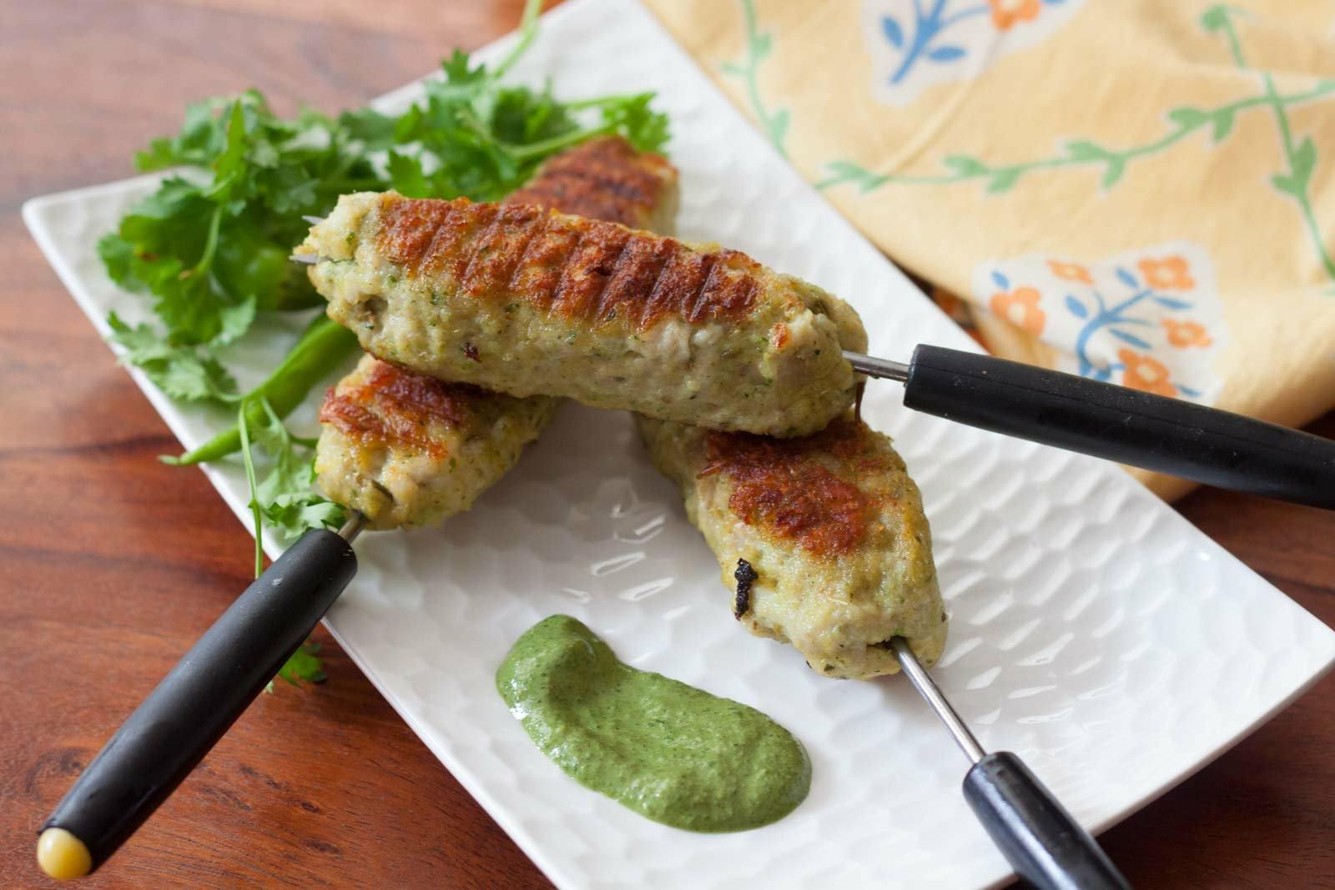GreenChutney: (499, 616, 808, 833)
Kebab: (322, 136, 679, 523), (305, 193, 867, 431), (637, 401, 948, 681)
